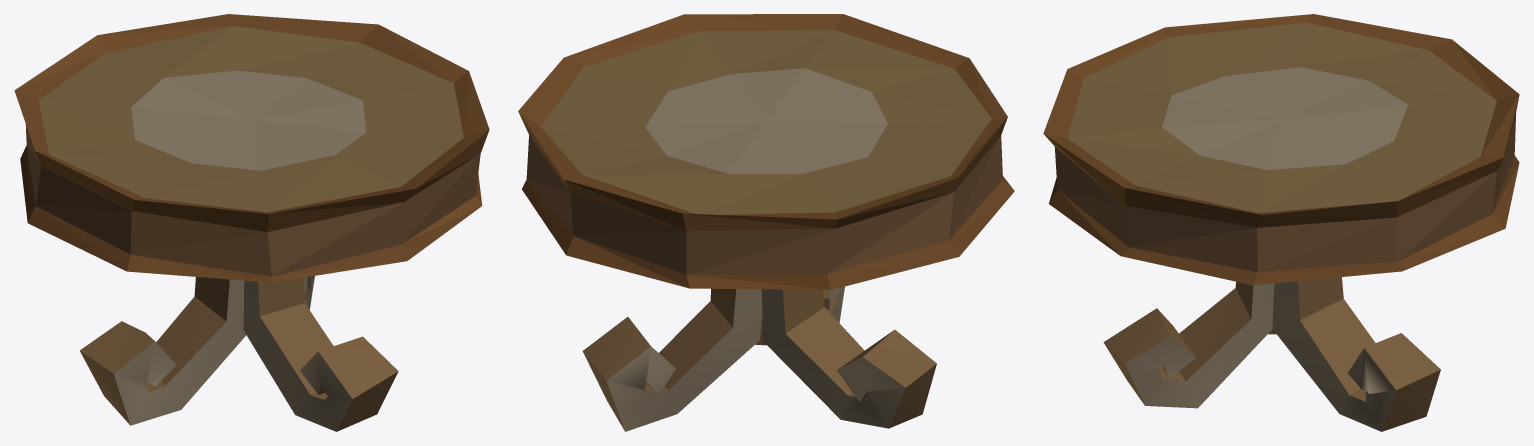
The model's file is RG-Dungeon_Round-Table-01.fbx.
The picture shows the model from 3 angles, left to right: view 1: azimuth 30°, elevation 25°; view 2: azimuth 150°, elevation 25°; view 3: azimuth 270°, elevation 25°; orthographic projection. The views are drawn at different scales.
Visible parts, largest first — view 1: RG-Dungeon_Round-Table-01; view 2: RG-Dungeon_Round-Table-01; view 3: RG-Dungeon_Round-Table-01.
Boxes of the visible parts, bbox=[...] form: RG-Dungeon_Round-Table-01: bbox=[14, 14, 489, 431]; RG-Dungeon_Round-Table-01: bbox=[518, 14, 1014, 431]; RG-Dungeon_Round-Table-01: bbox=[1043, 14, 1519, 431].
Size of the model in its own units: 5.7 by 3.6 by 5.67.
